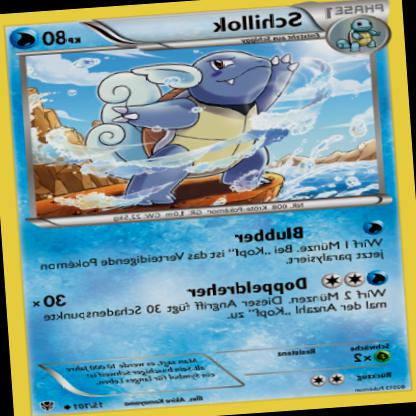Wartortle: (77, 43, 312, 214)
